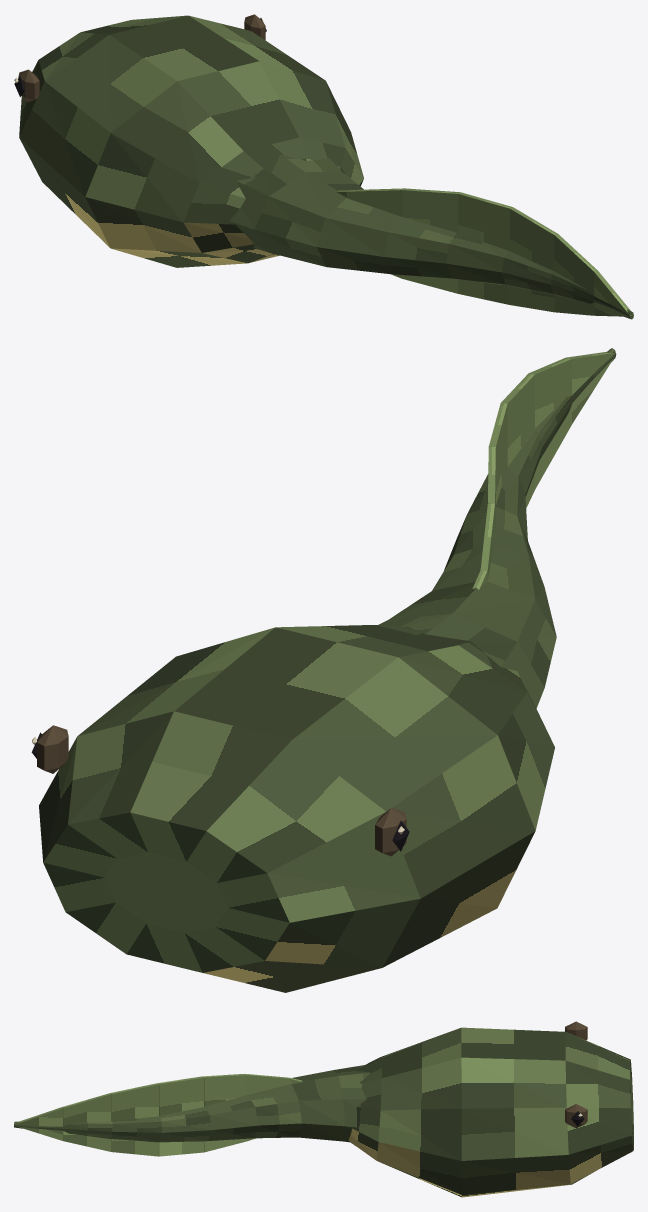
The model's file is mon_green_tadpole.glb.
The picture shows the model from 3 angles, top to bottom: view 1: azimuth 30°, elevation 25°; view 2: azimuth 150°, elevation 25°; view 3: azimuth 270°, elevation 25°; orthographic projection. The views are drawn at different scales.
Visible parts, largest first — view 1: closed_body; view 2: closed_body; view 3: closed_body.
Boxes of the visible parts, x1,y1,x2,y2 form: closed_body: [14, 14, 633, 319]; closed_body: [31, 348, 616, 992]; closed_body: [14, 1021, 633, 1197].
Size of the model in its own units: 0.0297 by 0.02 by 0.0802.
Materials: 1 (1 with a texture image).
